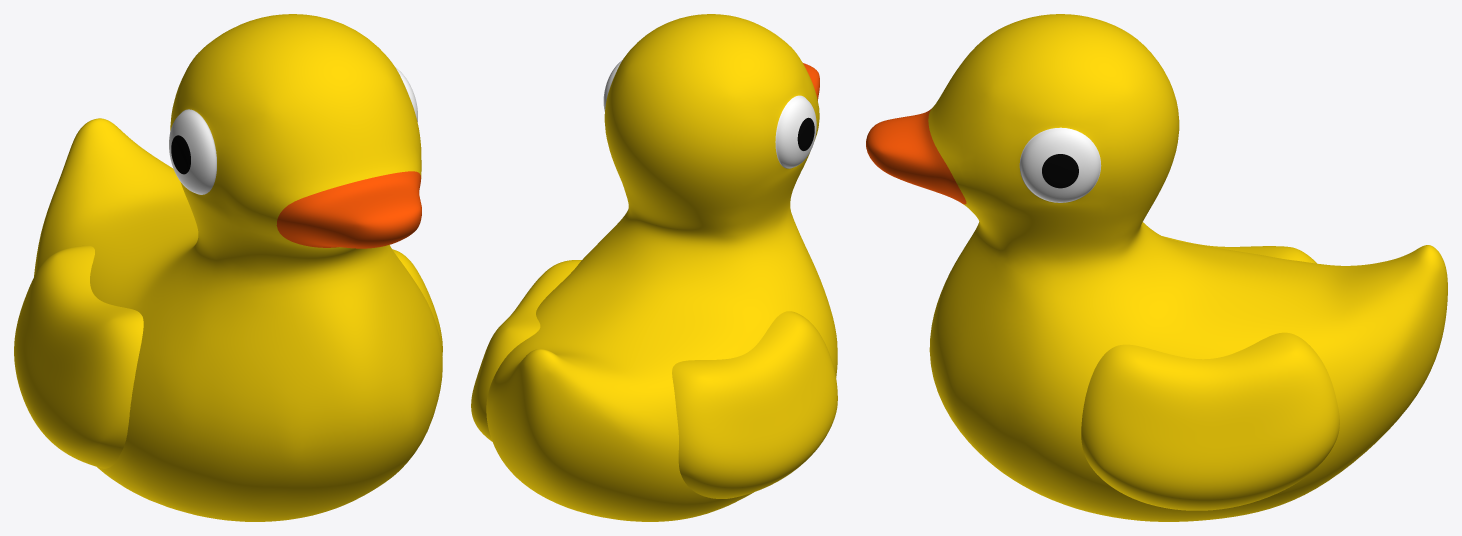
Rendered from duck.glb.
The picture shows the model from 3 angles, left to right: view 1: azimuth 30°, elevation 25°; view 2: azimuth 150°, elevation 25°; view 3: azimuth 270°, elevation 25°; orthographic projection. The views are drawn at different scales.
Parts seen in each view (by area): view 1: body, beak, eye, eyeB; view 2: body, eye, eyeB; view 3: body, beak, eye, eyeB.
Part boxes in pixels (bbox=[...]): body: bbox=[14, 14, 442, 521]; beak: bbox=[276, 171, 421, 248]; eye: bbox=[169, 67, 417, 194]; eyeB: bbox=[171, 135, 190, 174]; body: bbox=[471, 14, 837, 521]; eye: bbox=[603, 60, 816, 168]; eyeB: bbox=[797, 117, 814, 150]; body: bbox=[928, 14, 1447, 521]; beak: bbox=[866, 108, 966, 204]; eye: bbox=[1019, 127, 1101, 202]; eyeB: bbox=[1042, 154, 1078, 188].
Size of the model in its own units: 0.4447 by 0.5925 by 0.6634.
